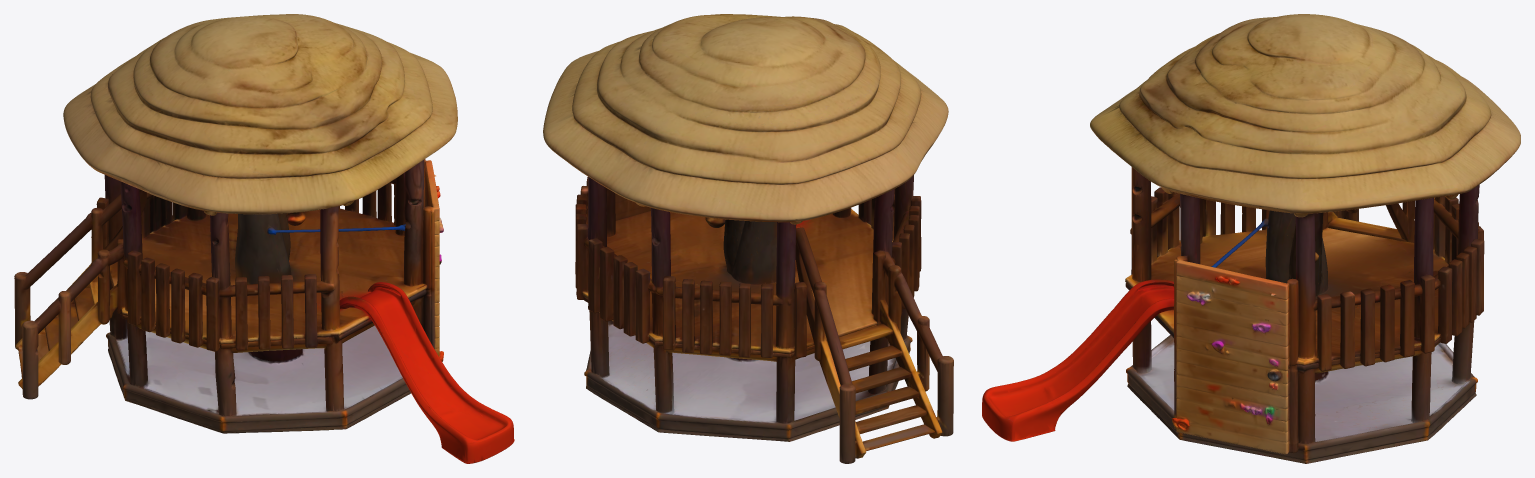
File: architectural-9753.glb
The picture shows the model from 3 angles, left to right: view 1: azimuth 30°, elevation 25°; view 2: azimuth 150°, elevation 25°; view 3: azimuth 270°, elevation 25°; orthographic projection. The views are drawn at different scales.
Parts seen in each view (by area): view 1: material; view 2: material; view 3: material.
Boxes of the visible parts, box(x1,y1,x2,y2) form: material: box(14, 14, 514, 463); material: box(543, 14, 953, 463); material: box(982, 14, 1520, 463).
Bounding box in the file's own units: 0.8268 × 0.6789 × 0.9305.
Materials: 1 (1 with a texture image).
